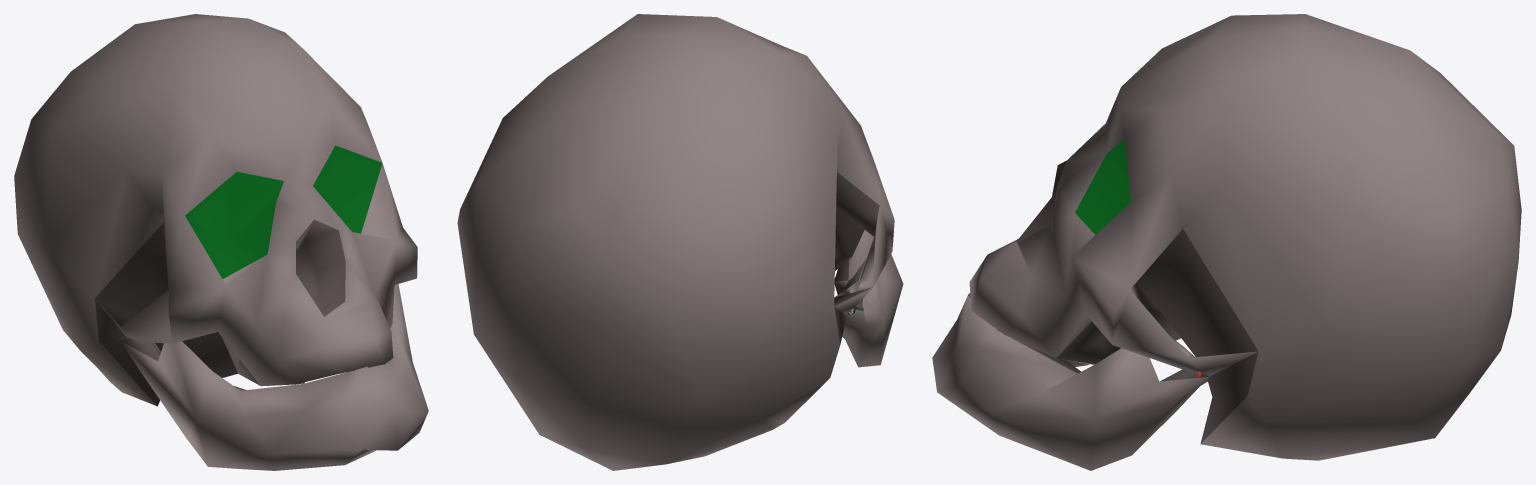
Rendered from HWN20_Skull_03.glb.
3 views of the same model, side by side, from view 1: azimuth 30°, elevation 25°; view 2: azimuth 150°, elevation 25°; view 3: azimuth 270°, elevation 25° (orthographic). The views are drawn at different scales.
Visible parts, largest first — view 1: HWN20_Skull_03; view 2: HWN20_Skull_03; view 3: HWN20_Skull_03.
Part boxes in pixels (left/top/right/bottom): HWN20_Skull_03: left=14, top=14, right=428, bottom=470; HWN20_Skull_03: left=457, top=14, right=903, bottom=470; HWN20_Skull_03: left=932, top=14, right=1521, bottom=470.
Size of what is drawn, in the model's own units: 0.2147 by 0.2467 by 0.3213.
Materials: 2 (2 with a texture image).
